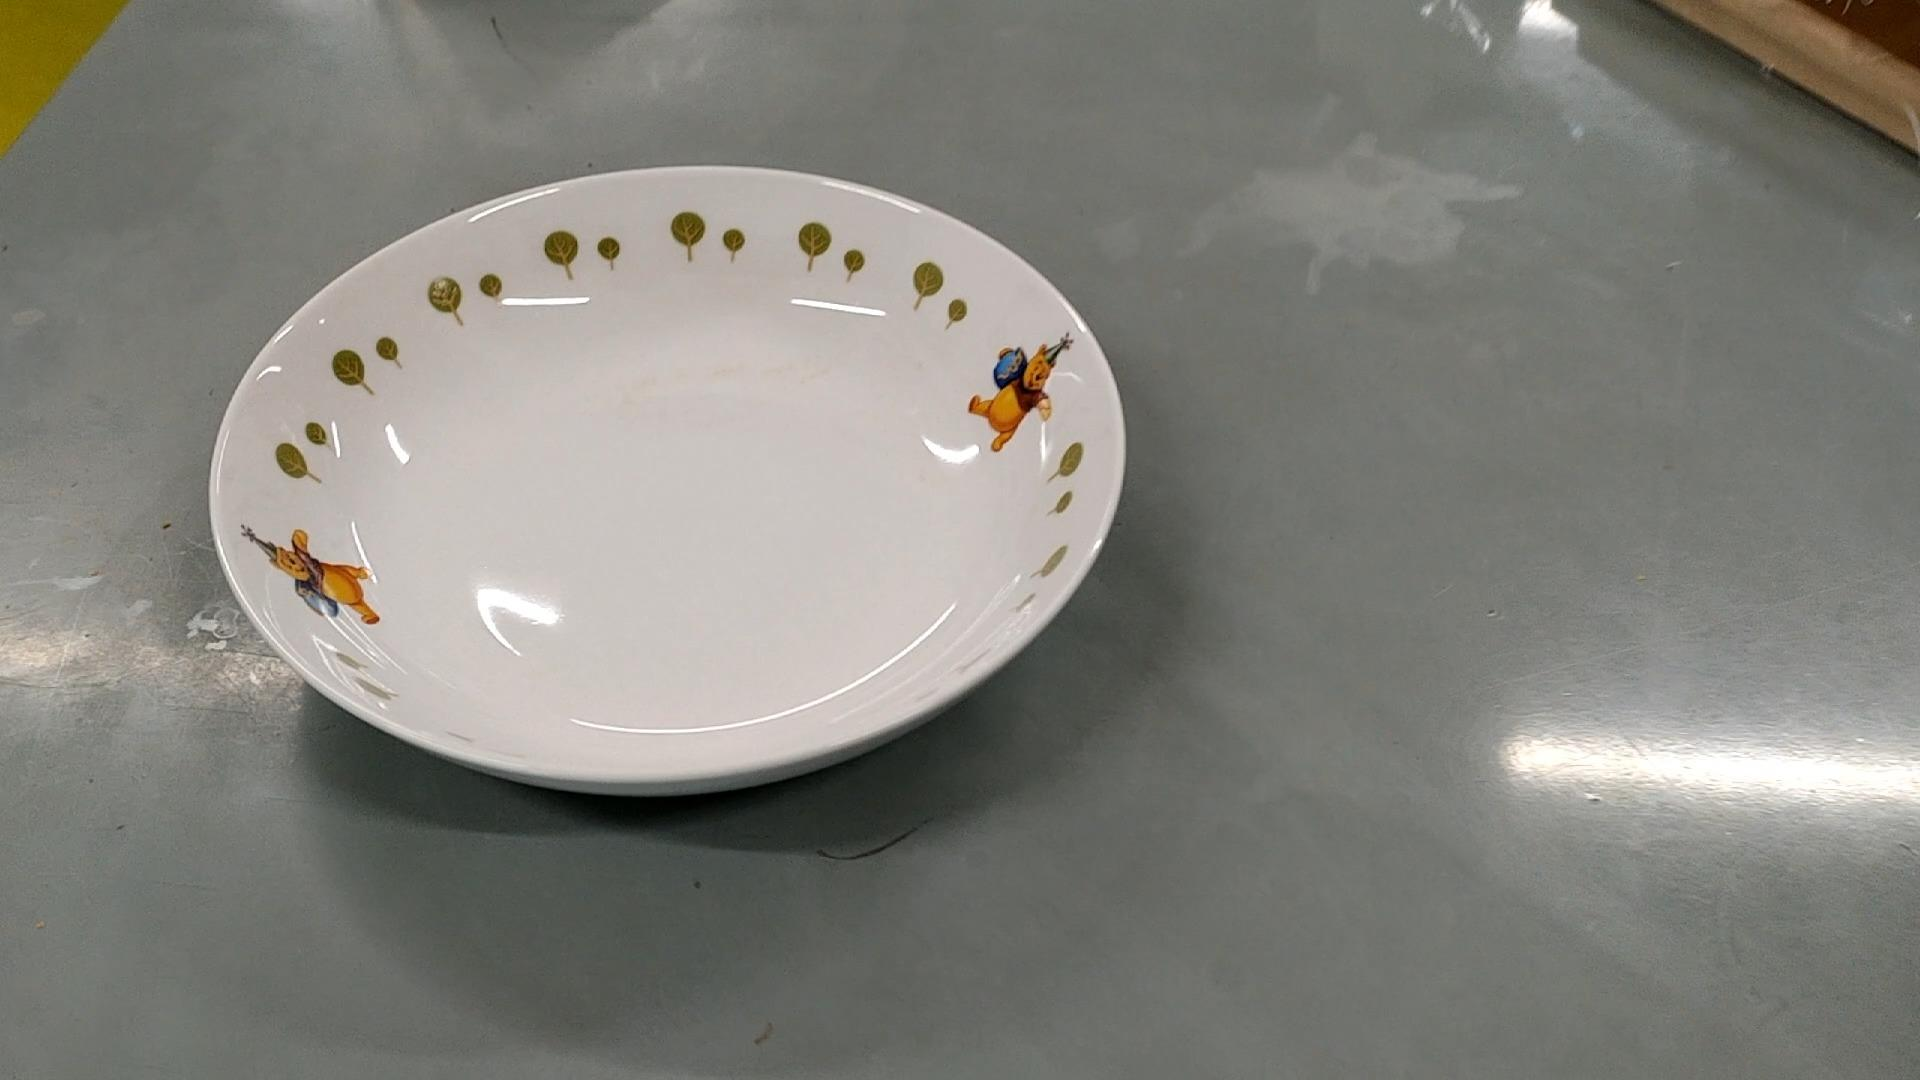plate: (214, 167, 1125, 795)
